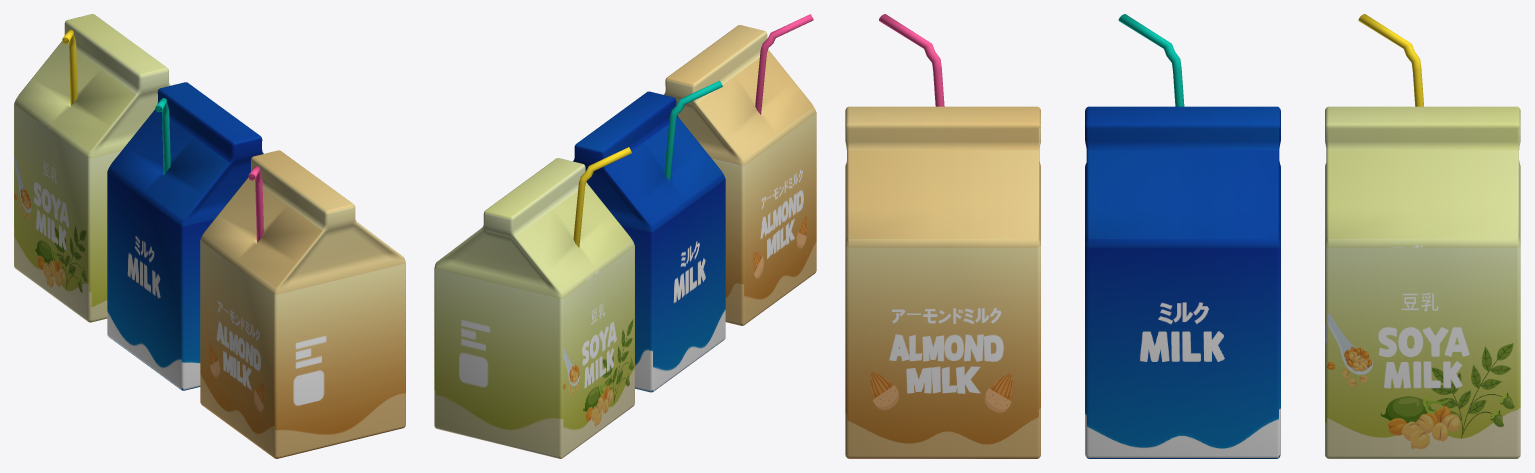
Rendered from FREE_Pacakage Drinks.gltf.
3 views of the same model, side by side, from view 1: azimuth 30°, elevation 25°; view 2: azimuth 150°, elevation 25°; view 3: azimuth 270°, elevation 25° (orthographic). The views are drawn at different scales.
Parts seen in each view (by area): view 1: Almond Milk, Soya Milk, Milk; view 2: Soya Milk, Almond Milk, Milk; view 3: Milk, Almond Milk, Soya Milk.
Part boxes in pixels (box(x1,y1,x2,y2)): Almond Milk: box(200, 150, 405, 458); Soya Milk: box(14, 14, 170, 322); Milk: box(107, 82, 263, 390); Soya Milk: box(434, 147, 634, 458); Almond Milk: box(664, 14, 816, 325); Milk: box(573, 80, 725, 392); Milk: box(1085, 14, 1280, 458); Almond Milk: box(845, 14, 1040, 458); Soya Milk: box(1325, 14, 1520, 458).
Bounding box in the file's own units: 1.77 × 3.3 × 5.63.
1 material, 1 textured.
